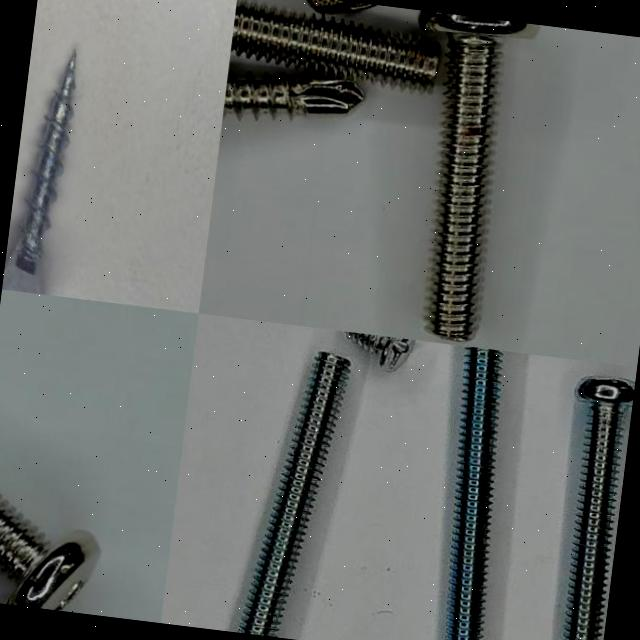Screw: (420, 10, 527, 341), (237, 351, 349, 637), (564, 377, 635, 640), (230, 2, 440, 89), (1, 53, 76, 294), (445, 346, 502, 640), (0, 496, 100, 610), (222, 78, 363, 118), (345, 331, 414, 371)
